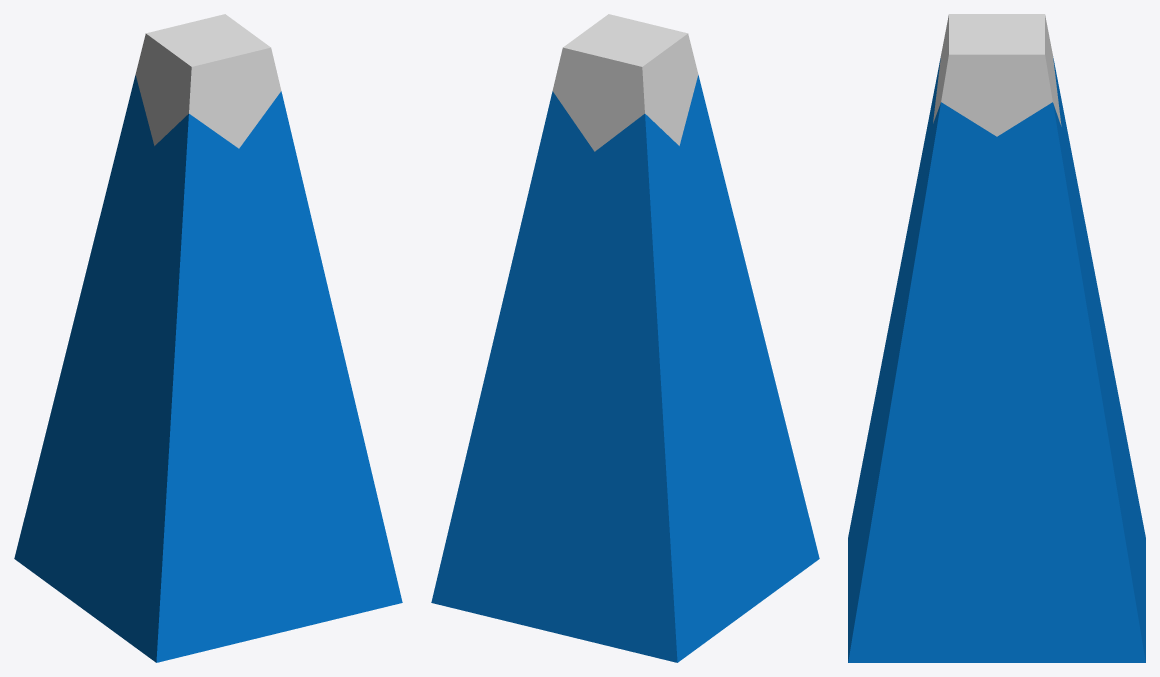
Rendered from mountain1.fbx.
3 renders of one model, left to right at view 1: azimuth 30°, elevation 25°; view 2: azimuth 150°, elevation 25°; view 3: azimuth 270°, elevation 25°, orthographic. The views are drawn at different scales.
Parts seen in each view (by area): view 1: Cube; view 2: Cube; view 3: Cube.
Part boxes in pixels (x1=…): Cube: x1=14, y1=14, x2=402, y2=662; Cube: x1=431, y1=14, x2=819, y2=662; Cube: x1=848, y1=14, x2=1145, y2=662.
Size of the model in its own units: 510 by 1069 by 510.
